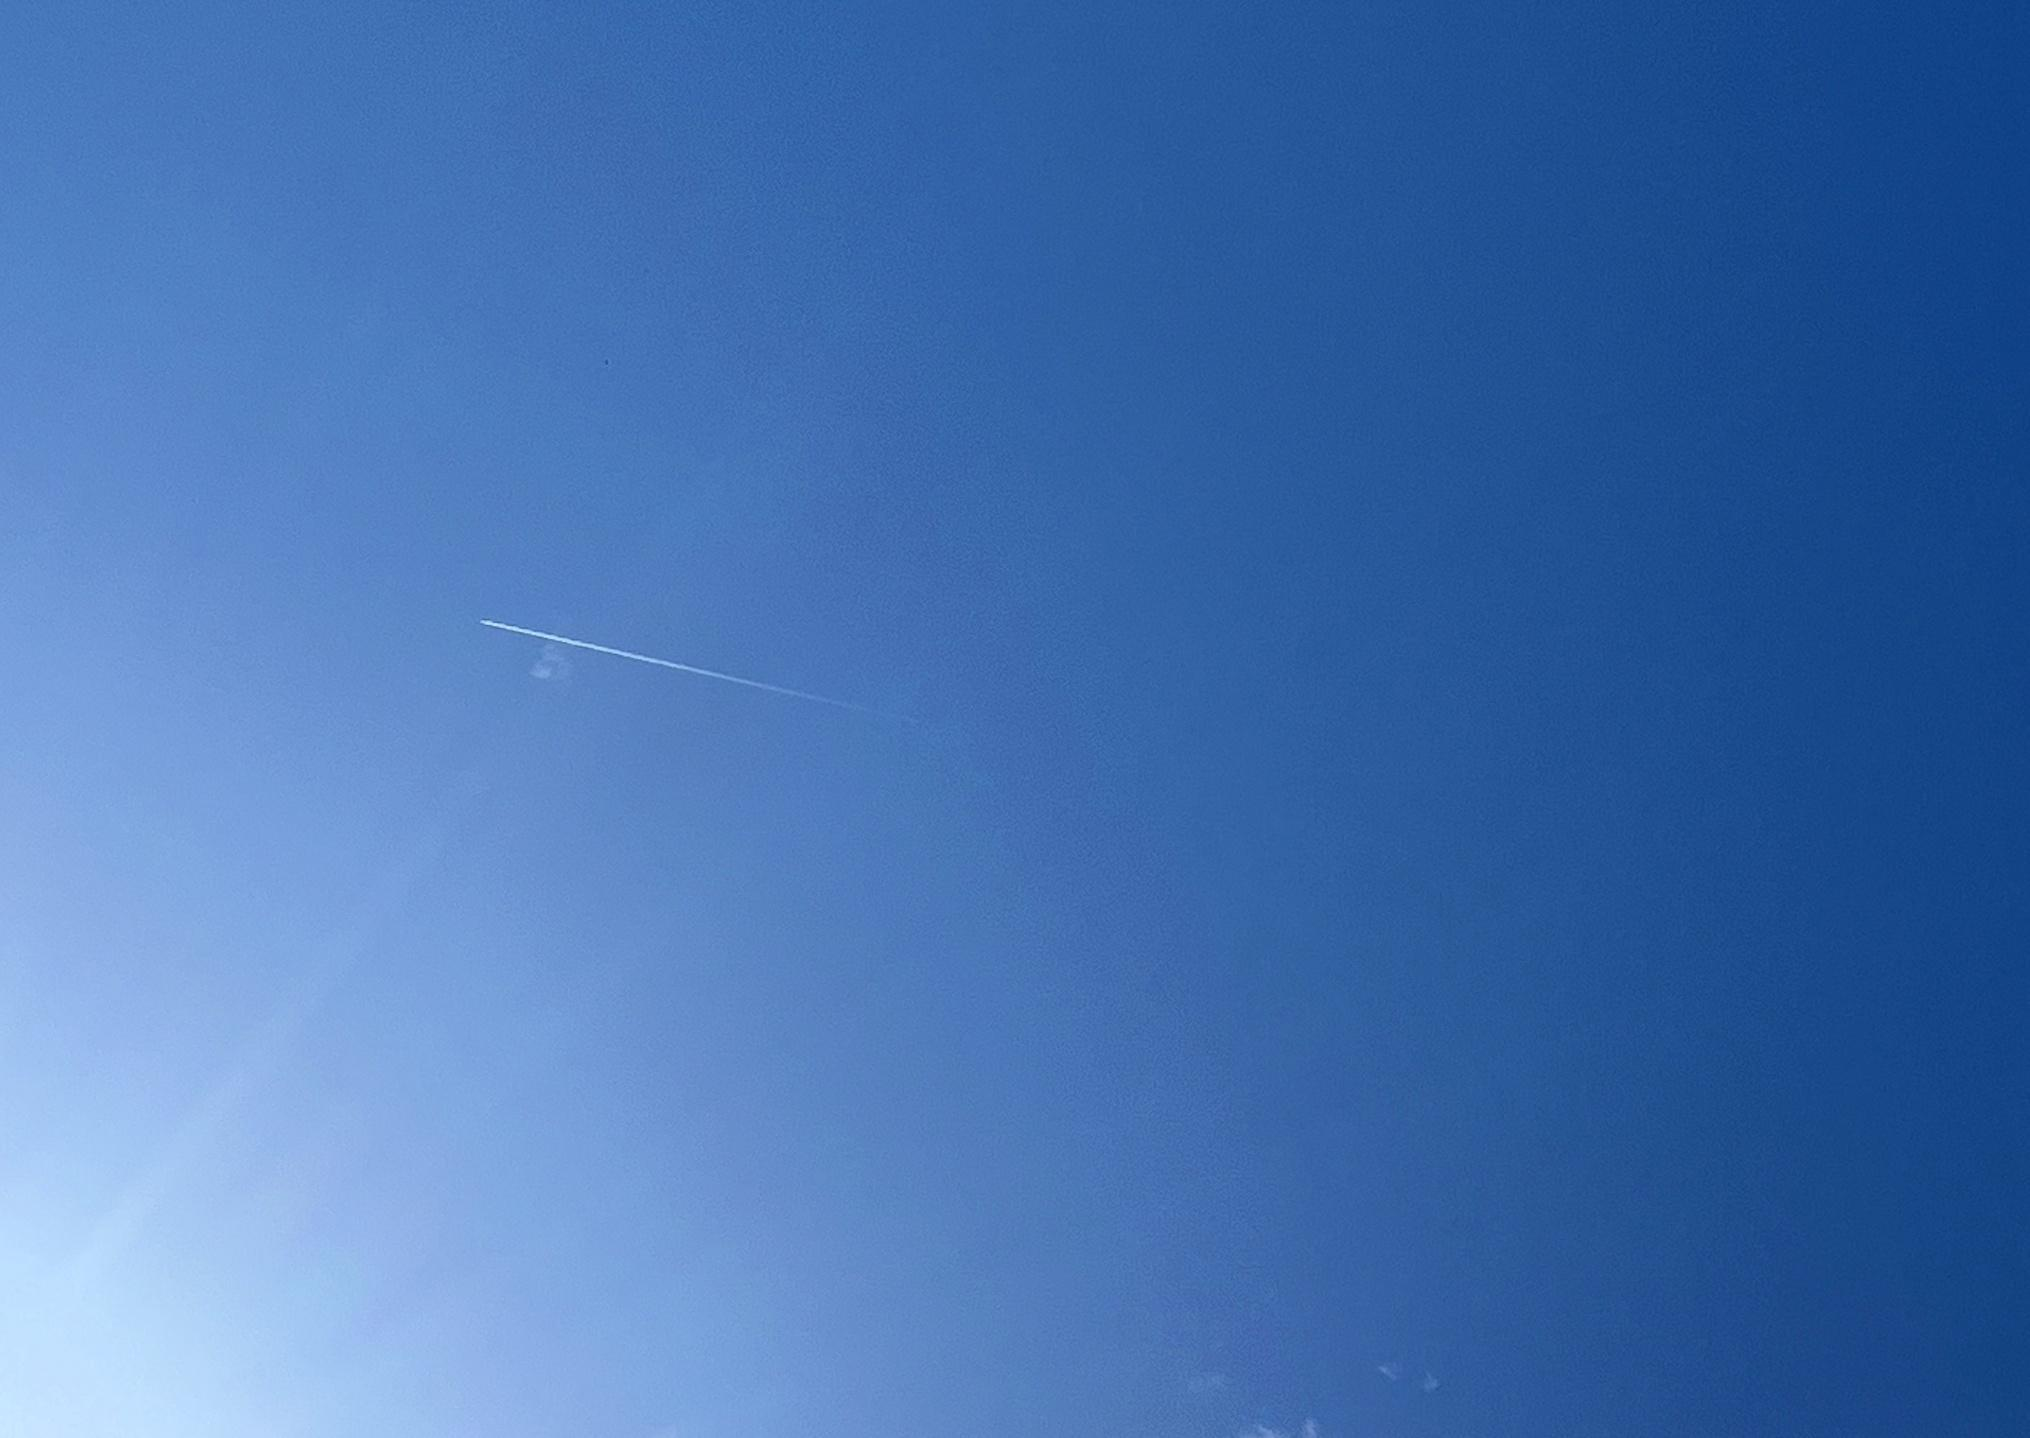Plane: (451, 602, 887, 722)
